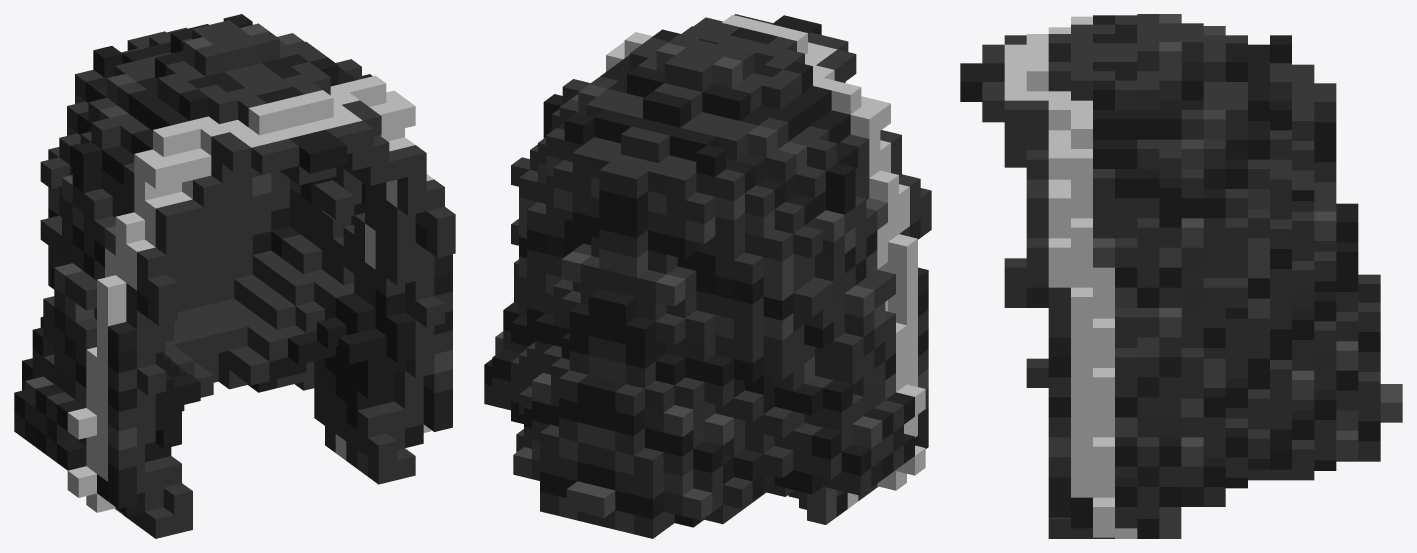
The model's file is capuche_mo.glb.
The picture shows the model from 3 angles, left to right: view 1: azimuth 30°, elevation 25°; view 2: azimuth 150°, elevation 25°; view 3: azimuth 270°, elevation 25°; orthographic projection. The views are drawn at different scales.
Parts seen in each view (by area): view 1: HOOD; view 2: HOOD; view 3: HOOD.
Part boxes in pixels (bbox=[...]): HOOD: bbox=[14, 14, 455, 538]; HOOD: bbox=[484, 14, 931, 538]; HOOD: bbox=[960, 14, 1402, 538].
Size of the model in its own units: 0.86 by 0.946 by 0.86.
Materials: 1 (1 with a texture image).
